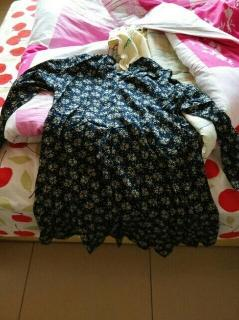long sleeve dress: (0, 53, 239, 258)
